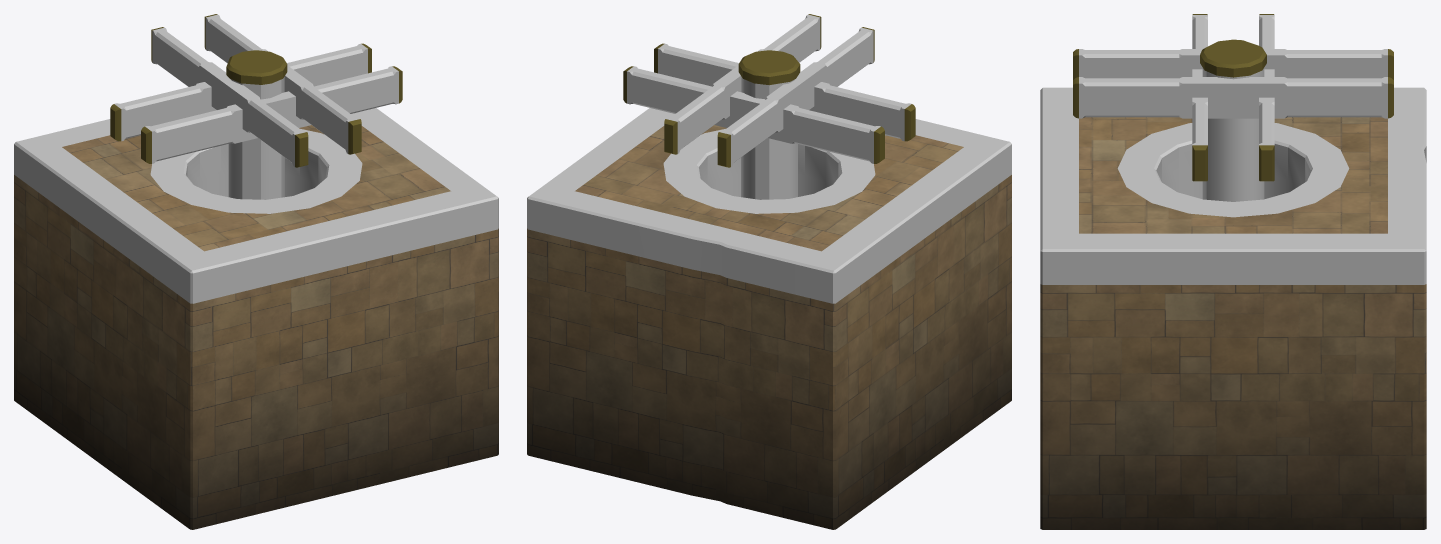
Rendered from PlatformHazard4Arm.fbx.
3 views of the same model, side by side, from view 1: azimuth 30°, elevation 25°; view 2: azimuth 150°, elevation 25°; view 3: azimuth 270°, elevation 25° (orthographic). The views are drawn at different scales.
Parts seen in each view (by area): view 1: PlatformHazard4Arm_Floor, MainPost; view 2: PlatformHazard4Arm_Floor, MainPost; view 3: PlatformHazard4Arm_Floor, MainPost.
Part boxes in pixels (x1,y1,x2,y2): PlatformHazard4Arm_Floor: (14, 108, 498, 529); MainPost: (110, 14, 402, 199); PlatformHazard4Arm_Floor: (527, 108, 1011, 529); MainPost: (623, 14, 915, 199); PlatformHazard4Arm_Floor: (1040, 87, 1426, 529); MainPost: (1073, 14, 1393, 201).
Size of the model in its own units: 500 by 566 by 500.
